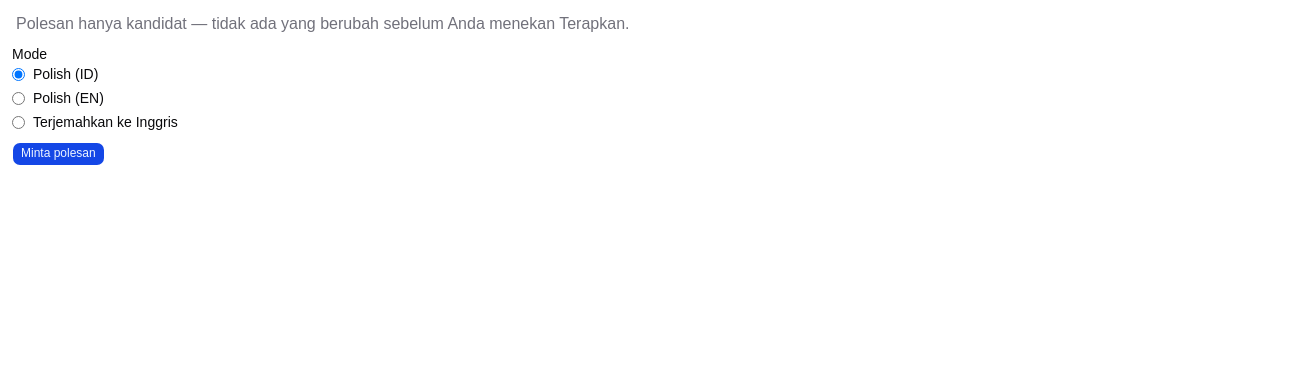
Scenario: PolishSuggestionsPanel (Task 20, FR-401/AC-401-a/b) › FR-408: persistent 429 retries the bounded attempts, then names the quota (Task 21)
Click the button "Minta polesan": [58, 154] box x1=12 y1=142 x2=105 y2=166
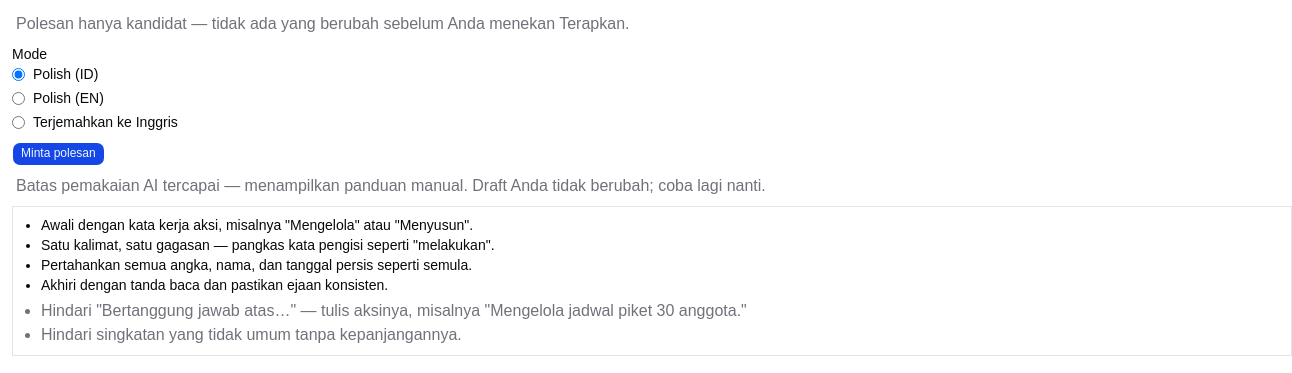
Expected: the text "Batas pemakaian AI tercapai — menampilkan panduan manual. Draft Anda tidak berubah; coba lagi nanti." is shown, x1=16 y1=177 x2=766 y2=194
Expected: the list item "Pertahankan semua angka, nama, dan tanggal persis seperti semula." is shown, x1=41 y1=257 x2=472 y2=273
